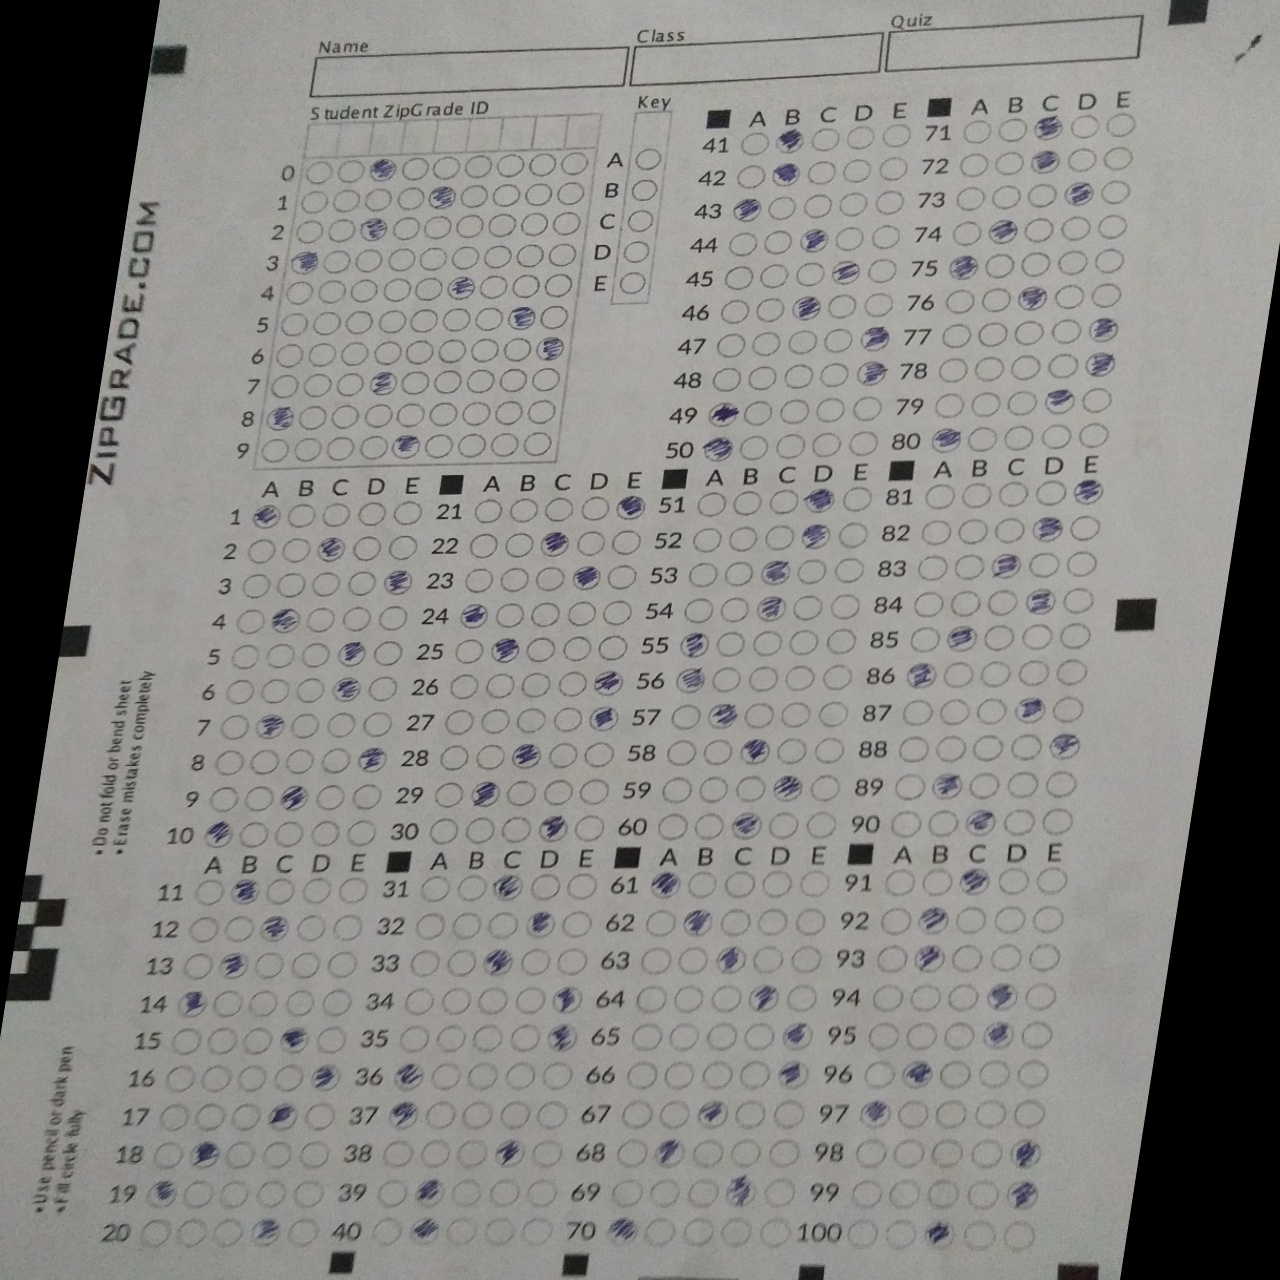not-c: (920, 1175, 964, 1211), (615, 1096, 658, 1131), (1019, 980, 1065, 1012), (880, 1216, 921, 1251), (900, 1017, 942, 1051), (605, 1176, 648, 1208), (958, 1219, 1001, 1252), (849, 1136, 892, 1169), (1016, 1017, 1060, 1050), (753, 1216, 797, 1247), (874, 905, 919, 937), (365, 1212, 406, 1246), (782, 980, 823, 1014), (862, 1017, 903, 1051), (145, 1136, 188, 1169), (1036, 804, 1078, 837), (960, 1178, 1003, 1210), (869, 940, 912, 972), (843, 1214, 881, 1250), (152, 1099, 192, 1133), (136, 1216, 176, 1250), (476, 1216, 522, 1245), (998, 1219, 1040, 1251), (987, 903, 1029, 934), (885, 1175, 922, 1210), (190, 1099, 229, 1133), (942, 1017, 981, 1051), (268, 1060, 308, 1092), (760, 1175, 799, 1207), (846, 1176, 886, 1208), (638, 906, 679, 938), (629, 981, 670, 1013), (738, 1019, 779, 1050), (683, 1177, 724, 1208), (969, 1096, 1010, 1128), (1024, 942, 1065, 974), (884, 808, 925, 839), (914, 517, 955, 549), (451, 1138, 493, 1169), (445, 1178, 488, 1208), (517, 1216, 559, 1246), (965, 1138, 1007, 1169), (1049, 656, 1091, 687), (762, 1138, 805, 1167), (1042, 350, 1085, 380), (501, 1058, 539, 1091), (663, 1019, 702, 1051), (734, 1058, 772, 1091), (161, 1061, 200, 1092), (300, 1099, 340, 1131), (462, 1060, 502, 1091), (372, 1177, 411, 1208), (376, 1136, 416, 1167), (652, 809, 692, 840), (644, 1177, 683, 1208), (640, 1216, 680, 1247), (679, 1216, 719, 1247), (716, 1216, 756, 1247), (1009, 1096, 1049, 1128), (905, 980, 945, 1012), (522, 1177, 563, 1207), (731, 1098, 772, 1129), (610, 1137, 651, 1167), (856, 1058, 897, 1089), (866, 981, 907, 1012), (891, 731, 932, 762), (927, 390, 968, 421), (660, 736, 702, 765), (930, 1098, 972, 1128), (311, 1023, 349, 1055), (295, 1137, 334, 1169), (284, 1217, 322, 1248), (538, 1058, 577, 1090), (802, 809, 840, 840), (659, 1058, 697, 1090), (621, 1058, 660, 1090), (888, 1136, 927, 1167), (1014, 1057, 1053, 1089), (945, 980, 983, 1012), (393, 1022, 433, 1053), (527, 1137, 567, 1167), (805, 770, 845, 801), (821, 293, 862, 322), (719, 870, 760, 899), (1005, 731, 1046, 761), (770, 1098, 806, 1131), (428, 1060, 465, 1091), (658, 772, 695, 804), (697, 1058, 735, 1090), (878, 867, 920, 896), (203, 1024, 241, 1055), (564, 871, 602, 901), (400, 985, 438, 1015), (505, 1022, 544, 1053), (414, 1137, 452, 1167), (974, 1058, 1013, 1089), (1029, 903, 1068, 933), (922, 809, 961, 839), (931, 731, 969, 762), (979, 622, 1017, 653), (982, 586, 1021, 617), (222, 1139, 261, 1169), (288, 1179, 328, 1208), (414, 874, 454, 904), (552, 947, 592, 976), (482, 908, 522, 938), (403, 948, 443, 978), (706, 362, 745, 392), (825, 591, 865, 620), (753, 907, 792, 937), (1012, 658, 1051, 687), (1058, 586, 1098, 615), (1032, 478, 1071, 508), (918, 481, 958, 510), (1087, 280, 1126, 309), (860, 256, 901, 284), (227, 1099, 264, 1131), (703, 1020, 740, 1051), (293, 911, 331, 941), (184, 913, 222, 944), (232, 1062, 270, 1092), (216, 1178, 253, 1208), (252, 1179, 290, 1210), (173, 1217, 211, 1247), (694, 772, 731, 803), (906, 624, 944, 654), (971, 352, 1008, 382), (299, 874, 338, 904), (442, 1216, 481, 1245), (775, 396, 813, 425), (716, 907, 755, 937), (707, 983, 745, 1013), (689, 1138, 728, 1167), (726, 1138, 764, 1167), (926, 1138, 965, 1167), (893, 1098, 932, 1128), (1033, 865, 1071, 894), (890, 770, 928, 799), (966, 770, 1005, 799), (672, 946, 712, 974), (934, 697, 974, 726), (944, 588, 983, 617), (999, 422, 1039, 450), (449, 908, 485, 939), (823, 625, 859, 655), (692, 810, 728, 840), (750, 944, 787, 974), (995, 477, 1032, 508), (968, 388, 1005, 418), (1017, 248, 1054, 279), (433, 1023, 470, 1053), (422, 1099, 459, 1129), (486, 1178, 524, 1207), (779, 362, 817, 392), (849, 393, 886, 422), (838, 484, 876, 513), (756, 869, 794, 898), (937, 1060, 974, 1089), (947, 944, 985, 973), (952, 905, 989, 934), (1003, 770, 1041, 799), (967, 731, 1005, 761), (1050, 695, 1088, 724), (299, 157, 338, 185), (469, 1023, 508, 1051), (533, 1101, 572, 1129), (844, 429, 883, 457), (635, 946, 674, 974), (897, 697, 935, 726), (1055, 621, 1094, 649), (1024, 550, 1063, 578), (939, 287, 978, 315), (946, 218, 985, 246), (210, 987, 245, 1017), (240, 1024, 275, 1055), (474, 985, 509, 1015), (438, 985, 474, 1015), (629, 1021, 665, 1051), (658, 1098, 693, 1129), (198, 1063, 234, 1092), (259, 1139, 295, 1169), (209, 1218, 245, 1247), (771, 430, 808, 459), (731, 772, 768, 802), (764, 810, 801, 839), (794, 907, 830, 937), (670, 983, 707, 1013), (1001, 808, 1037, 837), (910, 588, 946, 618), (1075, 418, 1111, 448), (1007, 350, 1043, 380), (1054, 247, 1090, 277), (511, 986, 549, 1014), (459, 1099, 497, 1128), (497, 1099, 535, 1128), (712, 329, 749, 358), (806, 429, 844, 457), (692, 489, 729, 517), (994, 867, 1032, 896), (939, 660, 976, 688), (1002, 389, 1040, 417), (1090, 247, 1128, 275), (787, 945, 825, 972), (1017, 622, 1056, 649), (912, 554, 951, 581), (1062, 550, 1101, 577), (990, 517, 1029, 544), (1065, 515, 1104, 542), (1047, 316, 1085, 343), (181, 1178, 215, 1208), (467, 335, 502, 365), (252, 949, 287, 979), (559, 908, 594, 938), (700, 736, 735, 765), (1043, 770, 1078, 799), (1061, 147, 1101, 172), (571, 813, 607, 842), (319, 988, 355, 1016), (452, 874, 489, 903), (517, 947, 553, 975), (818, 662, 855, 690), (682, 870, 719, 898), (988, 942, 1024, 971), (920, 867, 956, 896), (955, 517, 992, 545), (1051, 281, 1088, 309), (1097, 177, 1133, 205), (274, 309, 312, 336), (577, 777, 614, 804), (723, 229, 761, 256), (749, 329, 787, 356), (740, 701, 777, 728), (810, 736, 847, 763), (974, 697, 1012, 724), (974, 320, 1012, 347), (987, 183, 1024, 210), (734, 130, 772, 156), (1102, 113, 1141, 138), (282, 987, 316, 1016), (331, 913, 366, 941), (288, 949, 324, 978), (874, 154, 910, 182), (785, 327, 821, 355), (1039, 421, 1074, 449), (937, 354, 972, 382), (982, 251, 1017, 279), (410, 913, 447, 940), (443, 949, 479, 976), (721, 263, 757, 290), (815, 362, 851, 389), (781, 663, 817, 690), (797, 869, 833, 896), (976, 659, 1013, 686), (958, 481, 994, 508), (1010, 320, 1047, 347), (1058, 215, 1095, 241), (1023, 181, 1060, 207), (952, 184, 988, 211), (990, 150, 1027, 177), (993, 115, 1029, 142), (958, 117, 994, 144), (270, 342, 307, 368), (878, 121, 915, 147), (388, 215, 422, 243), (524, 397, 558, 425), (837, 190, 871, 218), (956, 150, 990, 178), (715, 299, 754, 324), (545, 741, 580, 768), (245, 990, 280, 1017), (325, 951, 360, 978), (839, 157, 874, 184), (872, 189, 907, 216), (867, 222, 903, 248), (774, 737, 809, 764), (526, 873, 563, 899), (731, 163, 768, 189), (791, 261, 828, 287), (778, 701, 815, 727), (1080, 387, 1116, 413), (1021, 216, 1057, 241), (1095, 215, 1131, 240), (949, 554, 987, 579), (549, 209, 583, 236), (338, 340, 372, 367), (726, 524, 760, 551), (360, 710, 394, 737), (182, 952, 216, 979), (222, 915, 256, 942), (756, 263, 790, 290), (736, 433, 770, 459), (816, 700, 850, 727), (428, 818, 463, 844), (799, 193, 835, 219), (753, 298, 788, 324), (765, 489, 801, 515), (939, 322, 974, 348), (806, 127, 843, 151), (742, 397, 774, 425), (430, 154, 463, 181), (517, 209, 550, 236), (501, 336, 533, 363), (493, 399, 526, 425), (354, 501, 387, 527), (285, 501, 318, 527), (837, 522, 870, 549), (504, 779, 537, 806), (542, 272, 576, 298), (472, 305, 506, 331), (384, 535, 418, 560), (324, 434, 358, 459), (304, 606, 338, 632), (762, 524, 796, 550), (787, 628, 821, 654), (554, 672, 588, 697), (263, 878, 297, 904), (765, 195, 799, 220), (745, 365, 779, 390), (730, 489, 764, 515), (526, 152, 561, 177), (456, 183, 491, 207), (421, 433, 456, 457), (761, 229, 796, 253), (831, 226, 866, 251), (862, 292, 897, 316), (1099, 147, 1135, 171), (1067, 114, 1102, 138), (353, 246, 384, 273), (290, 712, 321, 738), (169, 1028, 200, 1055), (298, 188, 331, 213), (485, 211, 518, 237), (311, 309, 343, 335), (537, 304, 570, 329), (301, 372, 334, 397), (318, 502, 350, 527), (349, 535, 382, 560), (392, 501, 424, 526), (358, 434, 390, 459), (345, 570, 377, 595), (339, 605, 372, 631), (604, 563, 636, 588), (719, 597, 751, 622), (682, 597, 715, 622), (319, 747, 352, 772), (325, 712, 358, 737), (224, 678, 257, 703), (294, 678, 327, 703), (832, 557, 865, 583), (282, 747, 315, 772), (710, 666, 743, 692), (713, 631, 745, 656), (443, 708, 476, 734), (479, 708, 512, 734), (551, 706, 584, 731), (519, 672, 552, 697), (747, 666, 779, 692), (236, 822, 268, 847), (272, 821, 305, 846), (309, 821, 342, 846), (501, 816, 533, 842), (464, 816, 497, 842), (336, 877, 369, 903), (813, 396, 846, 422), (520, 182, 554, 206), (421, 215, 455, 239), (448, 245, 482, 270), (481, 244, 515, 268), (624, 207, 658, 232), (619, 238, 653, 263), (527, 367, 561, 392), (486, 431, 520, 456), (467, 533, 501, 558), (610, 530, 644, 554), (595, 635, 629, 660), (263, 642, 297, 667), (447, 674, 481, 699), (583, 741, 617, 765), (241, 787, 275, 811), (821, 327, 855, 352), (281, 280, 316, 304), (978, 287, 1013, 311), (331, 188, 362, 213), (490, 182, 522, 207), (320, 247, 352, 273), (381, 277, 413, 302), (617, 268, 648, 294), (403, 339, 435, 365), (268, 373, 300, 399), (258, 437, 290, 463), (437, 339, 469, 365), (455, 433, 486, 458), (377, 604, 409, 629), (535, 565, 566, 591), (259, 678, 291, 703), (751, 629, 783, 655), (334, 158, 367, 183), (461, 154, 493, 178), (395, 185, 428, 210), (386, 246, 418, 271), (411, 277, 444, 301), (509, 273, 542, 298), (328, 404, 361, 429), (394, 402, 427, 427), (427, 401, 459, 425), (459, 401, 492, 425), (496, 367, 529, 392), (334, 372, 367, 396), (291, 436, 324, 461), (520, 430, 553, 455), (431, 368, 464, 393), (399, 369, 431, 394), (503, 532, 536, 557), (274, 572, 307, 597), (309, 571, 342, 595), (279, 537, 312, 561), (578, 496, 611, 520), (508, 497, 540, 522), (245, 538, 278, 563), (295, 406, 328, 430), (574, 531, 607, 556), (463, 568, 496, 593), (372, 639, 404, 663), (692, 527, 724, 552), (601, 599, 634, 624), (452, 639, 485, 663), (560, 635, 593, 660), (565, 600, 598, 625), (497, 567, 530, 592), (795, 558, 828, 583), (790, 595, 823, 620), (722, 560, 755, 585), (687, 561, 720, 586), (229, 644, 261, 668), (233, 610, 266, 634), (366, 676, 399, 701), (213, 749, 246, 774), (248, 748, 281, 772), (218, 714, 251, 738), (529, 600, 561, 625), (542, 779, 574, 804), (437, 745, 470, 770), (474, 744, 506, 769), (345, 821, 377, 845), (314, 785, 347, 810), (350, 783, 383, 808), (192, 880, 225, 905), (844, 125, 877, 150), (805, 159, 838, 184), (965, 427, 998, 451), (493, 154, 527, 177), (476, 275, 510, 299), (407, 308, 441, 332), (440, 307, 474, 331), (542, 497, 576, 520), (633, 145, 663, 171), (325, 218, 356, 243), (454, 213, 485, 238), (513, 244, 545, 268), (546, 241, 578, 266), (343, 309, 375, 334), (362, 403, 394, 428), (465, 368, 497, 393), (240, 573, 272, 598), (472, 498, 504, 523), (493, 602, 525, 627), (524, 636, 556, 661), (300, 641, 332, 666), (433, 782, 464, 806), (515, 707, 546, 731), (670, 704, 702, 729), (484, 673, 516, 697), (207, 787, 239, 811), (362, 188, 395, 211), (347, 279, 380, 302), (375, 309, 408, 333), (316, 279, 347, 304), (559, 152, 591, 176), (399, 157, 430, 181), (554, 181, 586, 204), (293, 219, 325, 243), (306, 342, 338, 366), (370, 341, 402, 365), (417, 246, 448, 270), (628, 178, 660, 200)
taken-c: (1000, 1177, 1044, 1210), (897, 1056, 939, 1090), (720, 1175, 760, 1208), (978, 1019, 1019, 1051), (919, 1217, 960, 1250), (1005, 1136, 1044, 1169), (712, 942, 750, 975), (744, 981, 783, 1014), (651, 1136, 689, 1169), (383, 1099, 423, 1131), (678, 906, 717, 938), (602, 1216, 642, 1247), (856, 1097, 896, 1129), (1009, 695, 1050, 726), (779, 1019, 817, 1051), (479, 946, 518, 978), (693, 1097, 731, 1129), (983, 980, 1022, 1012), (141, 1178, 181, 1208), (1046, 731, 1085, 762), (910, 942, 949, 973), (491, 1137, 529, 1169), (390, 1061, 428, 1092), (550, 983, 587, 1015), (410, 1178, 449, 1208), (942, 622, 981, 653), (903, 660, 941, 690), (914, 905, 953, 935), (215, 951, 254, 980), (772, 1058, 813, 1087), (266, 1099, 302, 1131), (728, 810, 765, 840), (246, 1217, 284, 1247), (1021, 586, 1058, 617), (646, 870, 685, 899), (983, 216, 1022, 245), (961, 808, 1000, 837), (955, 866, 994, 896), (926, 425, 966, 454), (798, 520, 835, 551), (307, 1062, 343, 1092), (1085, 313, 1122, 343), (769, 772, 806, 802), (522, 908, 559, 938), (488, 873, 525, 903), (788, 293, 825, 322), (930, 771, 967, 801), (184, 1141, 223, 1169), (543, 1023, 581, 1051), (1028, 114, 1067, 142), (1069, 478, 1108, 506), (1028, 515, 1067, 543), (1081, 350, 1121, 377), (256, 912, 291, 942), (508, 741, 544, 770), (485, 635, 523, 663), (468, 779, 505, 808), (801, 486, 838, 515), (173, 989, 211, 1017), (275, 1027, 313, 1055), (1060, 179, 1097, 207), (1042, 387, 1080, 415), (987, 551, 1024, 579), (856, 325, 894, 352), (701, 434, 736, 463), (536, 813, 572, 842), (753, 594, 789, 622), (672, 666, 708, 694), (704, 701, 741, 729), (737, 737, 774, 765), (729, 196, 765, 224), (945, 253, 981, 281), (380, 568, 417, 595), (612, 493, 649, 520), (406, 1216, 443, 1242), (852, 359, 890, 386), (1013, 284, 1050, 311), (703, 402, 742, 428), (570, 561, 604, 591), (532, 334, 567, 362), (248, 502, 284, 530), (252, 712, 288, 738), (537, 530, 573, 557), (590, 669, 626, 696), (676, 632, 713, 659), (768, 161, 804, 188), (1027, 148, 1063, 175), (585, 704, 622, 730), (772, 127, 806, 155), (313, 535, 348, 561), (335, 640, 370, 667), (328, 676, 363, 703), (355, 745, 390, 772), (275, 785, 311, 812), (200, 821, 236, 847), (356, 216, 392, 241), (287, 250, 322, 275), (456, 602, 491, 628), (758, 559, 794, 585), (796, 227, 831, 253), (389, 434, 423, 459), (227, 878, 261, 904), (424, 185, 459, 210), (267, 607, 302, 632), (828, 260, 863, 285), (444, 275, 477, 301), (365, 157, 399, 182), (263, 406, 297, 430), (365, 372, 400, 395), (505, 305, 537, 331)
